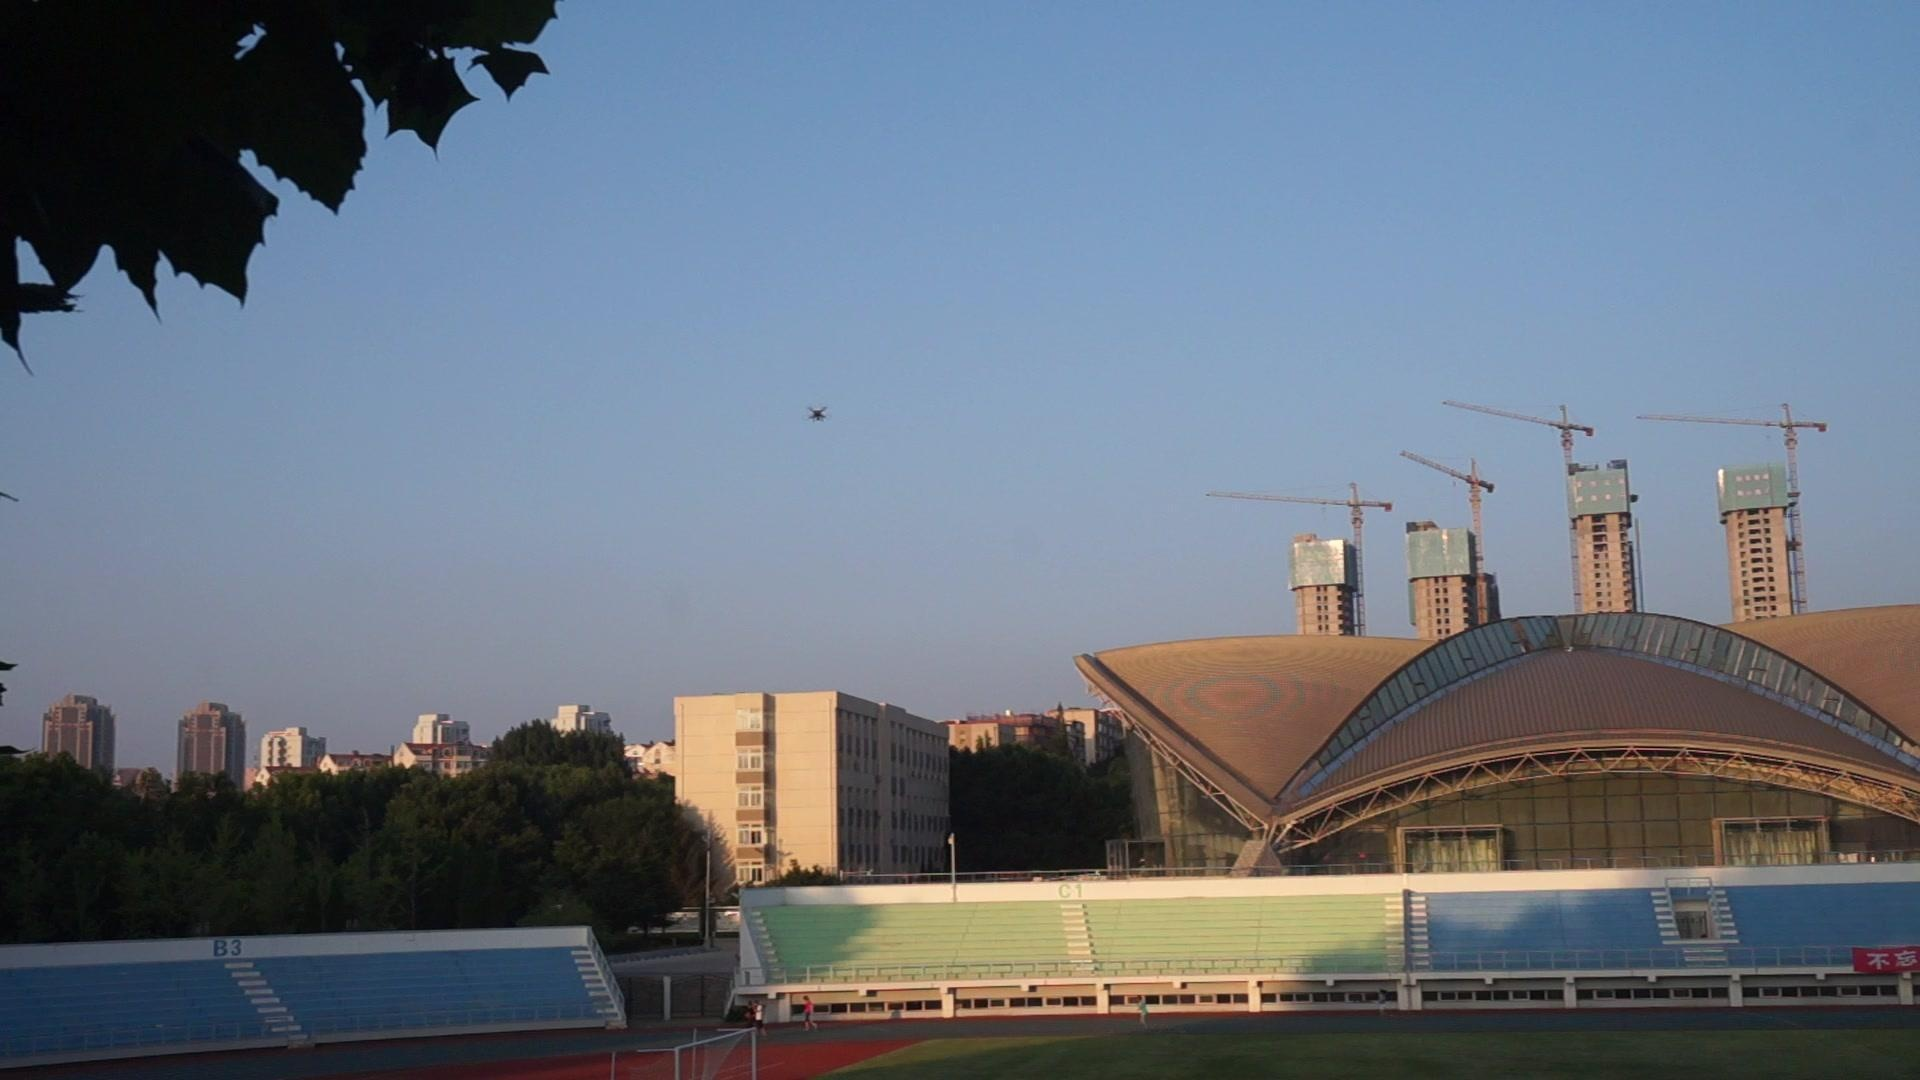UAV: (802, 406, 833, 425)
